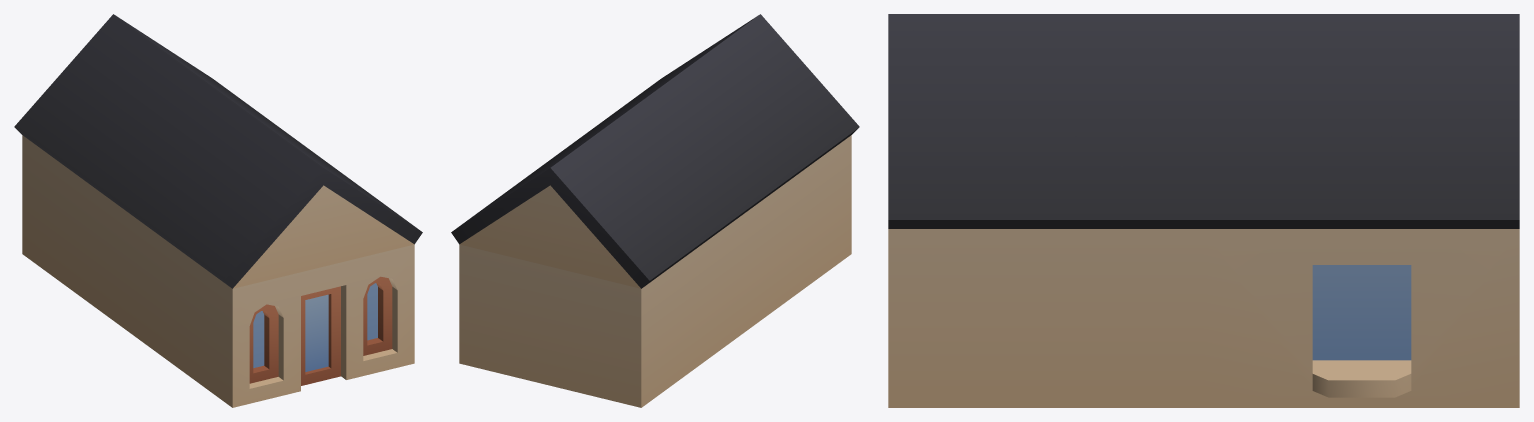
Rendered from school-a.glb.
The picture shows the model from 3 angles, left to right: view 1: azimuth 30°, elevation 25°; view 2: azimuth 150°, elevation 25°; view 3: azimuth 270°, elevation 25°; orthographic projection. The views are drawn at different scales.
Parts seen in each view (by area): view 1: mb_building-sample-house-a; view 2: mb_building-sample-house-a; view 3: mb_building-sample-house-a.
Part boxes in pixels (<box>): mb_building-sample-house-a: <box>14,14,422,407</box>; mb_building-sample-house-a: <box>451,14,859,407</box>; mb_building-sample-house-a: <box>888,14,1519,407</box>.
Bounding box in the file's own units: 1.1 × 1.14 × 2.
